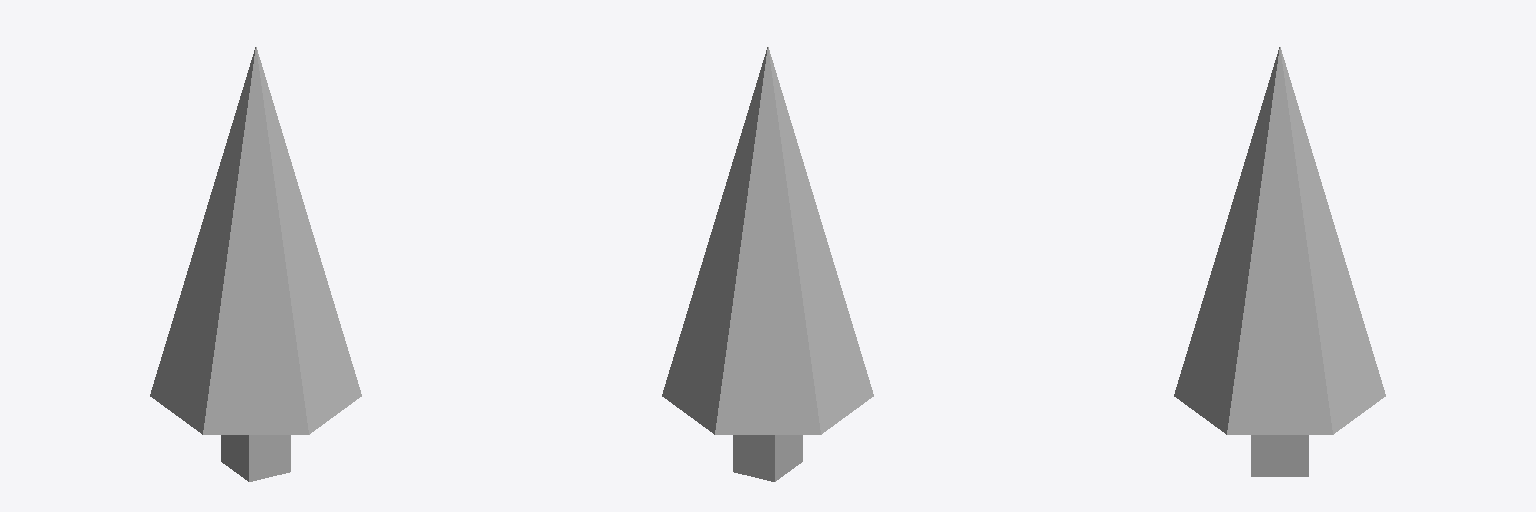
Rendered from tree2.obj.
3 views of the same model, side by side, from view 1: azimuth 30°, elevation 25°; view 2: azimuth 150°, elevation 25°; view 3: azimuth 270°, elevation 25° (orthographic).
Parts seen in each view (by area): view 1: Cone_Cone.001; view 2: Cone_Cone.001; view 3: Cone_Cone.001.
Boxes of the visible parts, x1=… form: Cone_Cone.001: x1=150, y1=47, x2=361, y2=481; Cone_Cone.001: x1=662, y1=47, x2=873, y2=481; Cone_Cone.001: x1=1174, y1=47, x2=1385, y2=476.
Bounding box in the file's own units: 1.73 × 4.38 × 2.